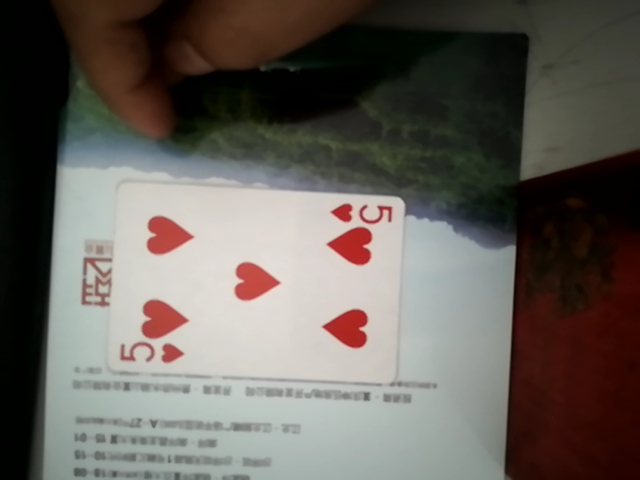hx 5: (88, 180, 409, 387)
